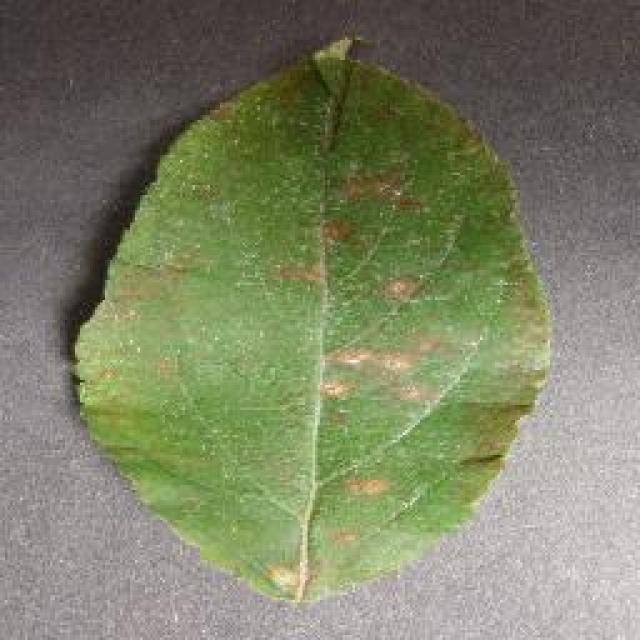apple healthy: (67, 33, 555, 605)
